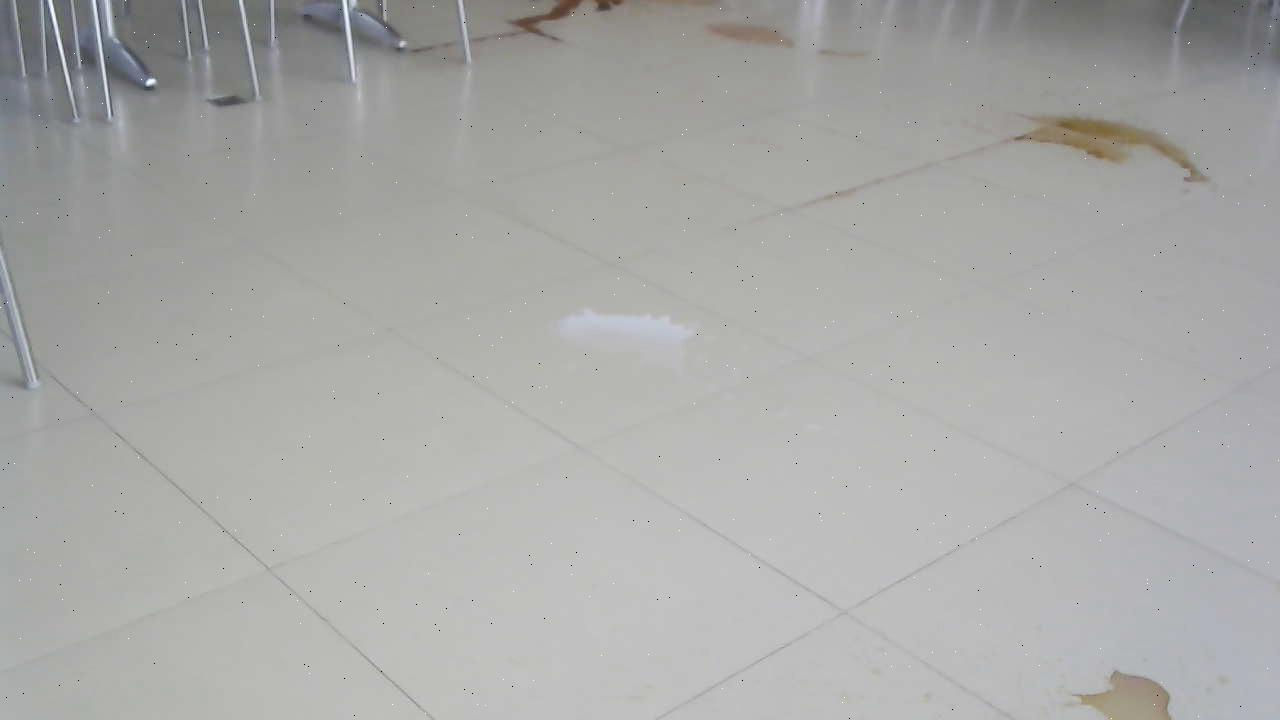dirty_floor: (991, 97, 1229, 189), (541, 299, 708, 376), (1063, 658, 1184, 720), (699, 16, 799, 55), (808, 42, 868, 67)
